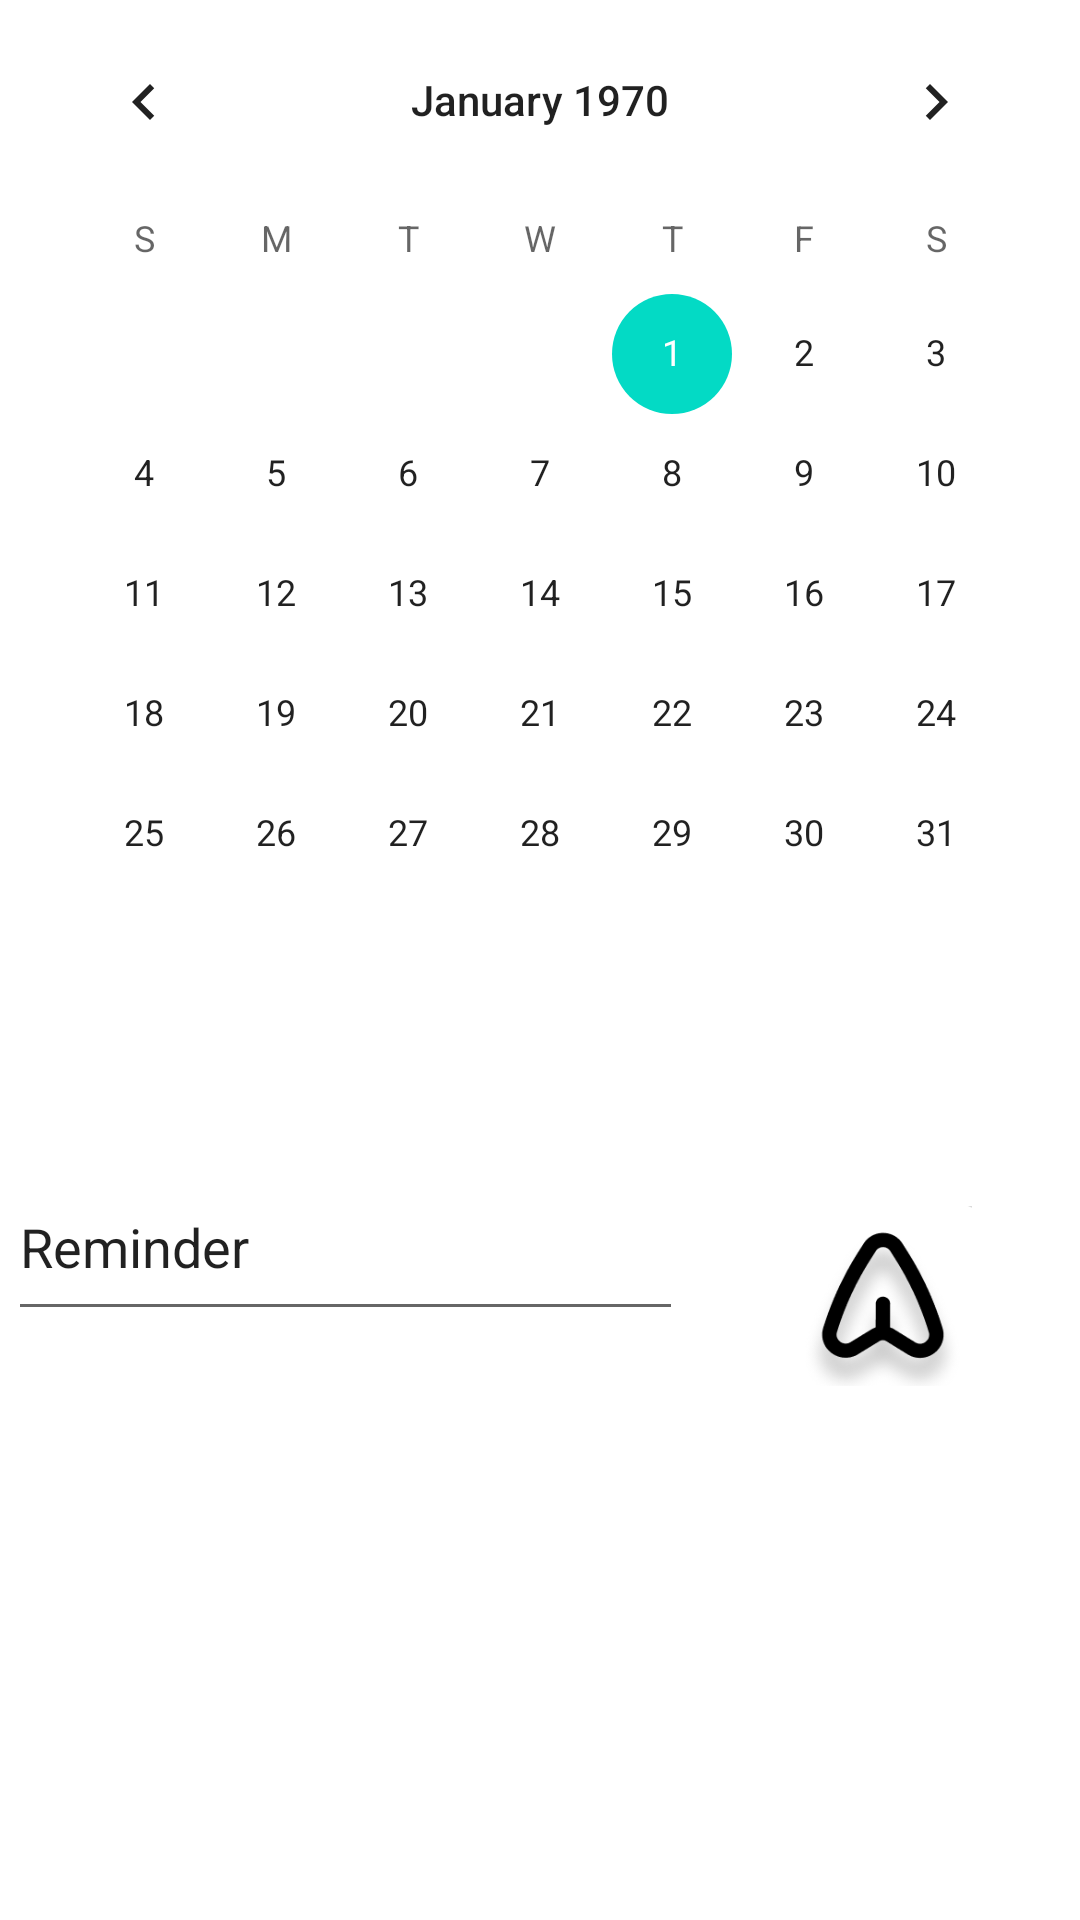

Screen size 1080 × 1920. Icon name, then its box in pixels as (x1, y1, x2, y2):
submitarrow: (821, 1206, 972, 1378)
